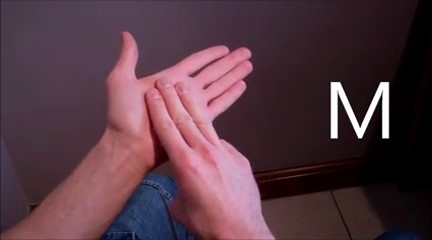M: (98, 22, 271, 233)
